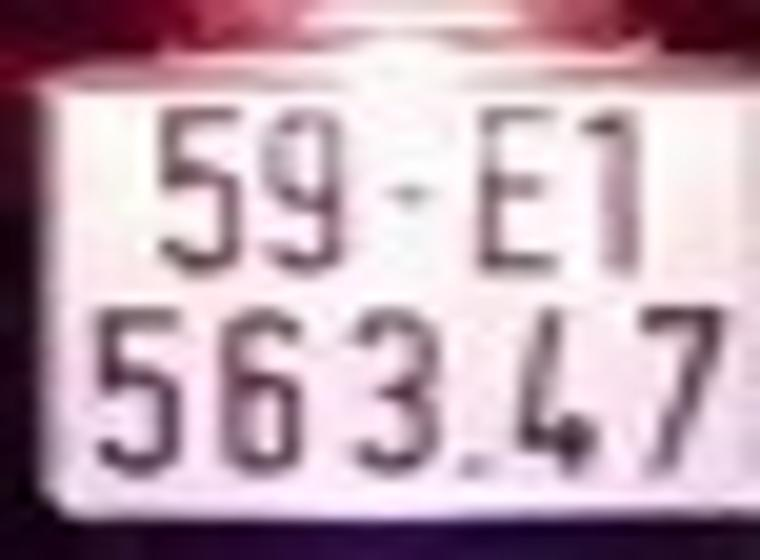-: (376, 178, 437, 203)
.: (460, 446, 491, 488)
1: (574, 108, 641, 274)
3: (347, 303, 442, 472)
4: (512, 302, 600, 476)
5: (148, 103, 246, 269), (93, 307, 179, 468)
6: (223, 309, 301, 479)
7: (635, 300, 721, 477)
9: (259, 111, 342, 263)
E: (475, 103, 556, 273)
